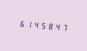eight: (45, 20, 51, 31)
five: (38, 19, 44, 31)
four: (31, 18, 37, 30), (52, 20, 58, 32)
one: (24, 18, 30, 29)
seven: (59, 21, 65, 32)
six: (17, 17, 23, 29)
